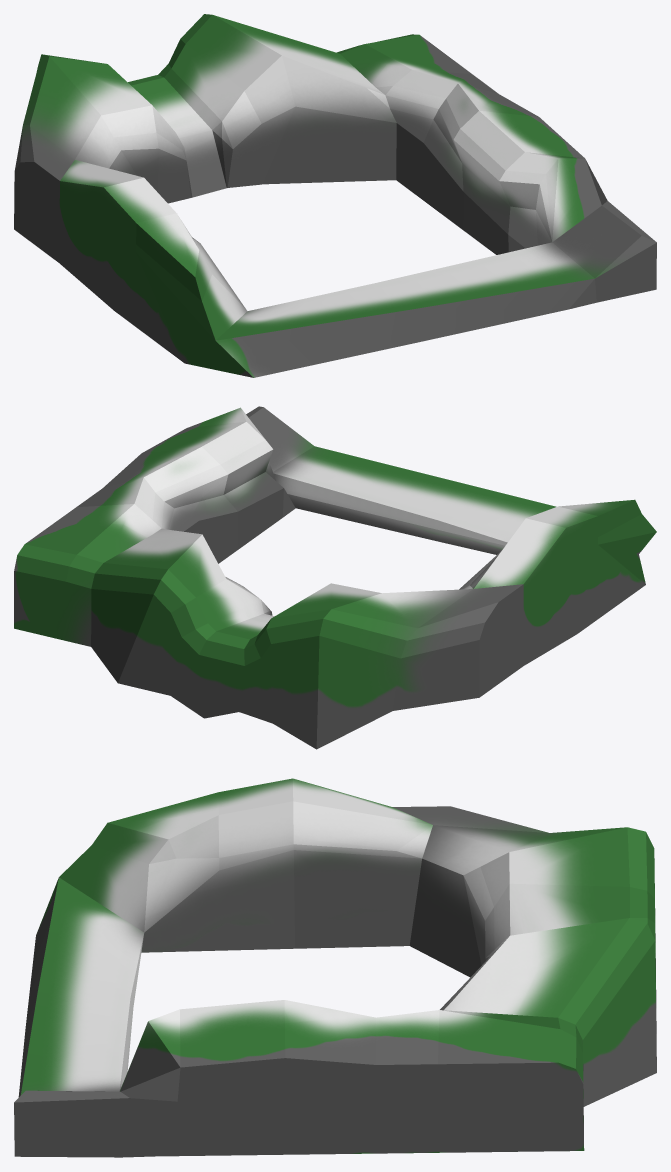
The model's file is Mountain.fbx.
3 views of the same model, one above another, from view 1: azimuth 30°, elevation 25°; view 2: azimuth 150°, elevation 25°; view 3: azimuth 270°, elevation 25° (orthographic). The views are drawn at different scales.
Parts seen in each view (by area): view 1: polySurface200; view 2: polySurface200; view 3: polySurface200.
Boxes of the visible parts, x1=… form: polySurface200: x1=14, y1=14, x2=656, y2=377; polySurface200: x1=14, y1=406, x2=656, y2=749; polySurface200: x1=14, y1=778, x2=656, y2=1157.
Bounding box in the file's own units: 180 × 53.2 × 201.
